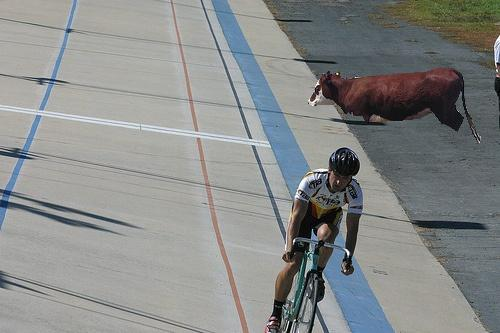tampered: (308, 68, 481, 144)
